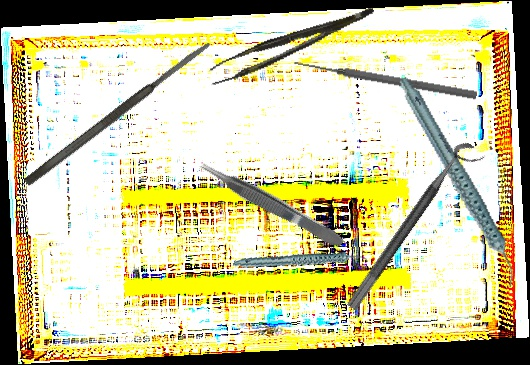Fixation Ring: (345, 137, 487, 322)
Handpiece: (397, 63, 519, 301), (232, 231, 370, 292)
Pusher: (293, 57, 478, 101)
Spatula Surgical: (22, 39, 214, 188)
Tissue Forceps: (196, 155, 346, 254), (203, 7, 381, 86)
